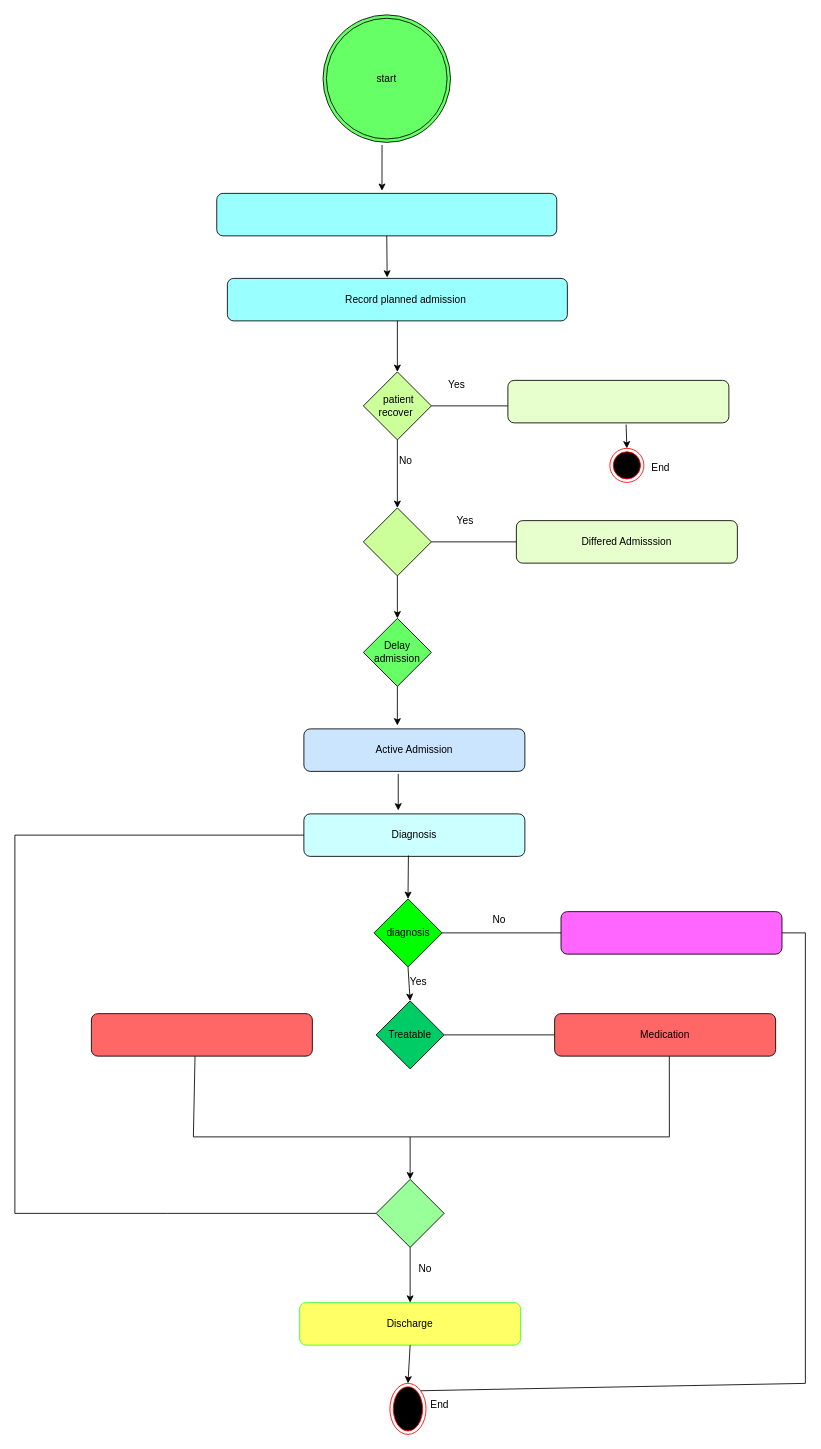
The diagram is 821 pixels wide and 1449 high, and some of its shapes have lost their labels. Each missing label, with the centre of its shape:
"Admission Cancel" goes at pixel 618 401.
"Community doctor refers patient" goes at pixel 386 214.
"Discharged" goes at pixel 671 932.
"More Treatment" goes at pixel 409 1213.
"Planned admission" goes at pixel 397 541.
"Surgery" goes at pixel 201 1034.
